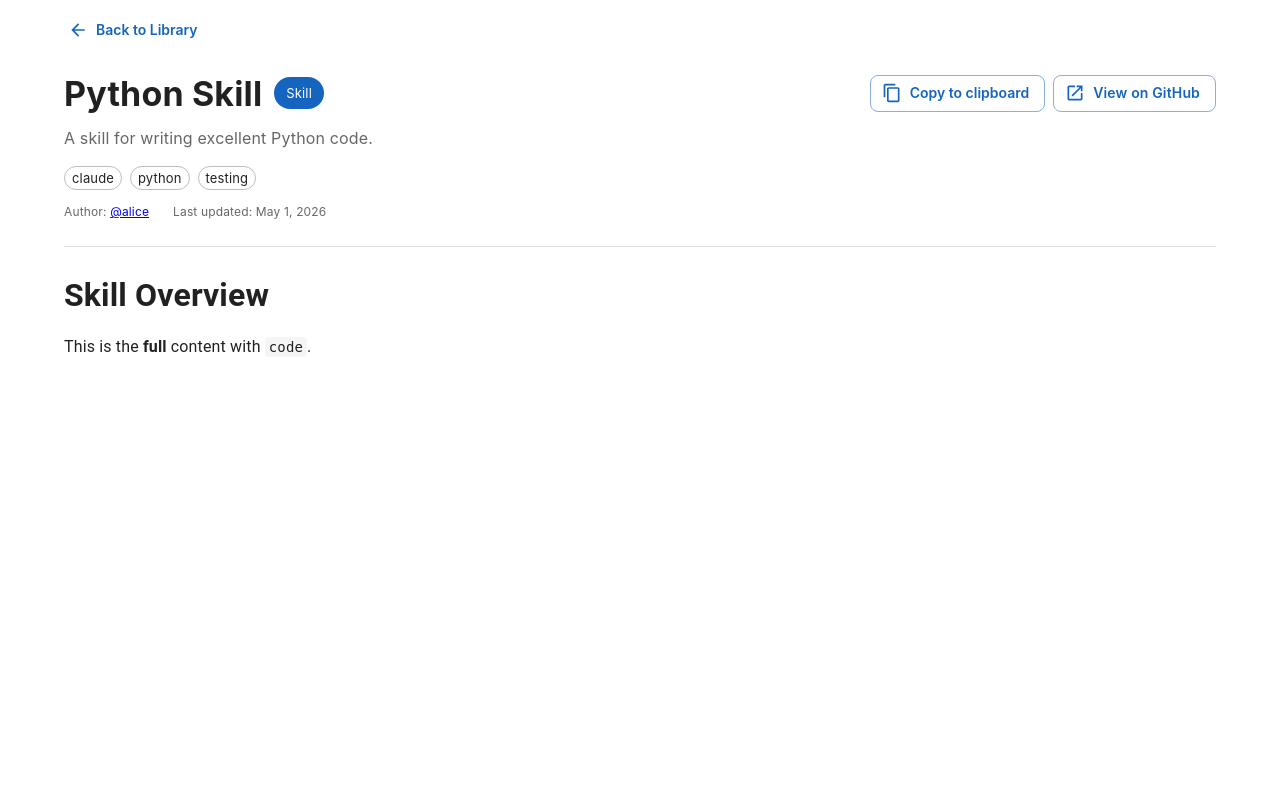
ItemDetail › copy to clipboard (AC 4) › shows an error toast when clipboard write fails
The image size is (1280, 812).
Step 1. Click the button "Copy to clipboard" → (957, 93), box [870, 75, 1045, 112]
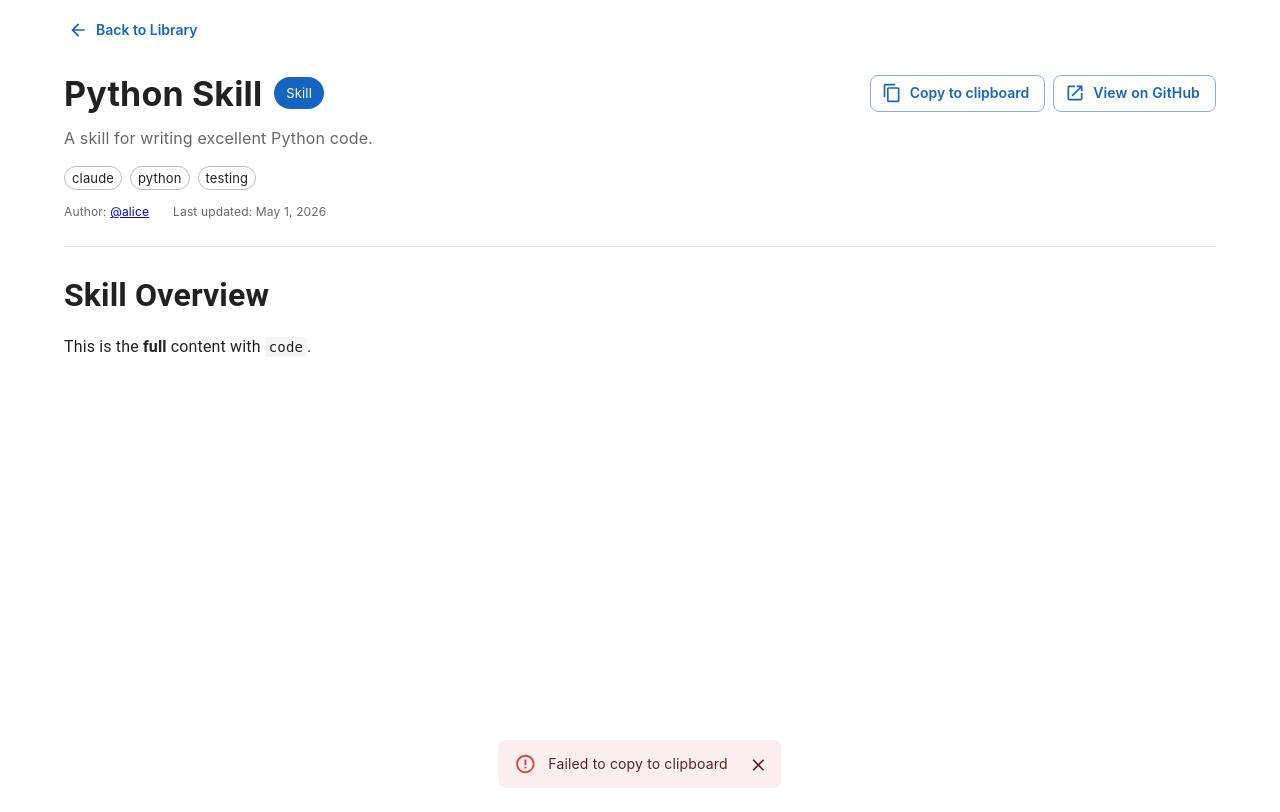
expect the text "Failed to copy to clipboard" is shown: met, box [548, 755, 728, 772]
